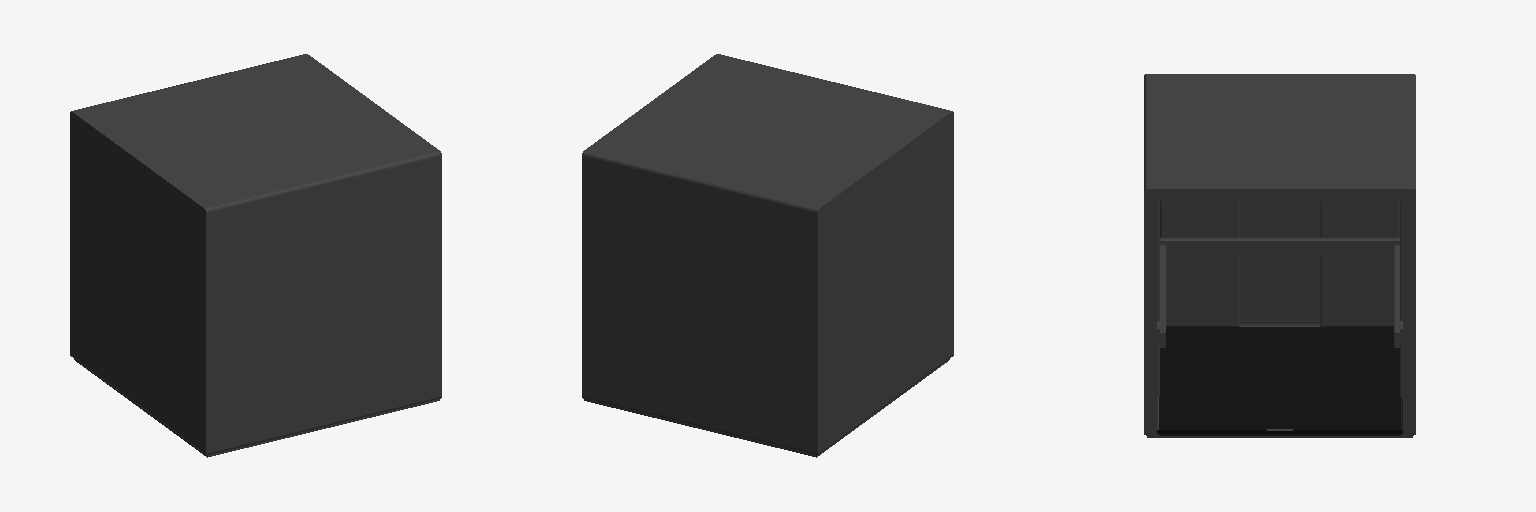
Rendered from Elevator.obj.
3 views of the same model, side by side, from view 1: azimuth 30°, elevation 25°; view 2: azimuth 150°, elevation 25°; view 3: azimuth 270°, elevation 25° (orthographic).
Visible parts, largest first — view 1: Elevator_Elevator; view 2: Elevator_Elevator; view 3: Elevator_Elevator.
Part boxes in pixels (x1,y1,x2,y2): Elevator_Elevator: (70,54,441,457); Elevator_Elevator: (582,54,953,457); Elevator_Elevator: (1144,74,1415,437).
Bounding box in the file's own units: 20.73 × 20.96 × 20.73.